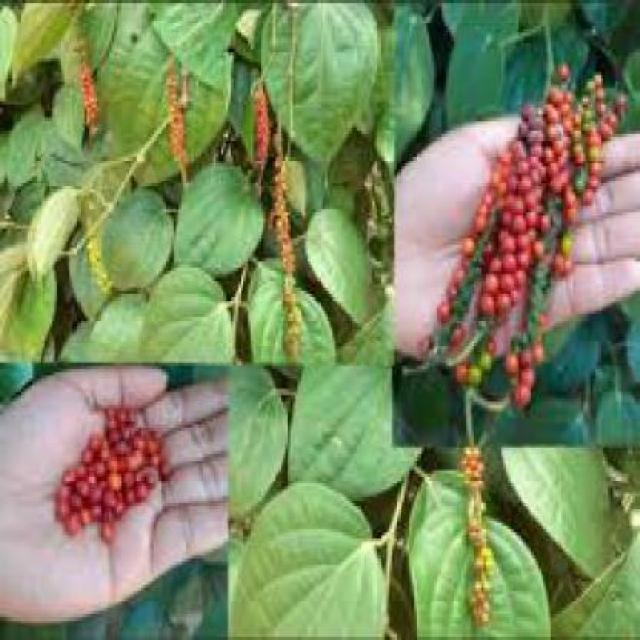RIPE: (459, 102, 543, 340), (40, 416, 163, 510), (543, 82, 611, 209), (453, 454, 502, 617), (273, 180, 296, 349), (73, 26, 99, 143), (165, 75, 191, 180), (249, 82, 274, 169)
